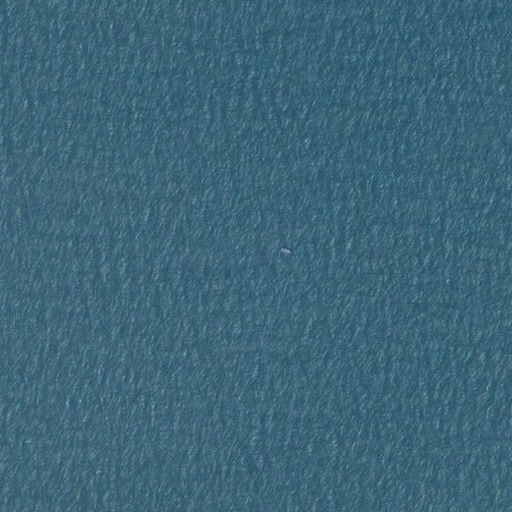ship: (276, 244, 294, 256)
